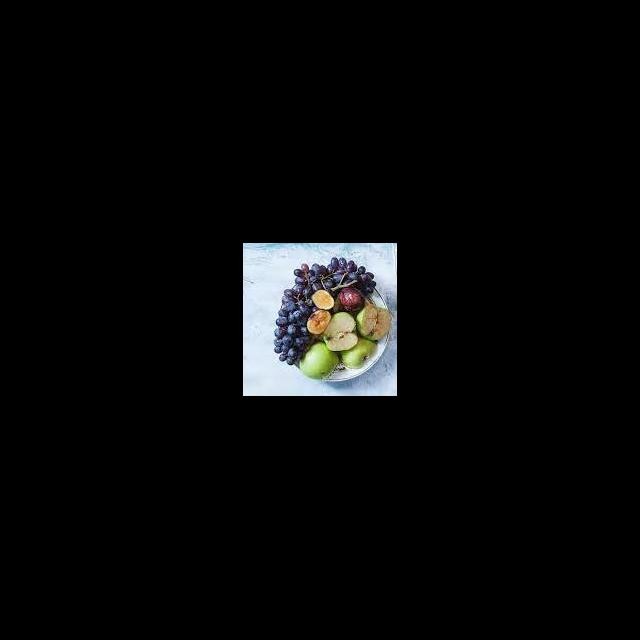grape: (273, 256, 377, 368)
